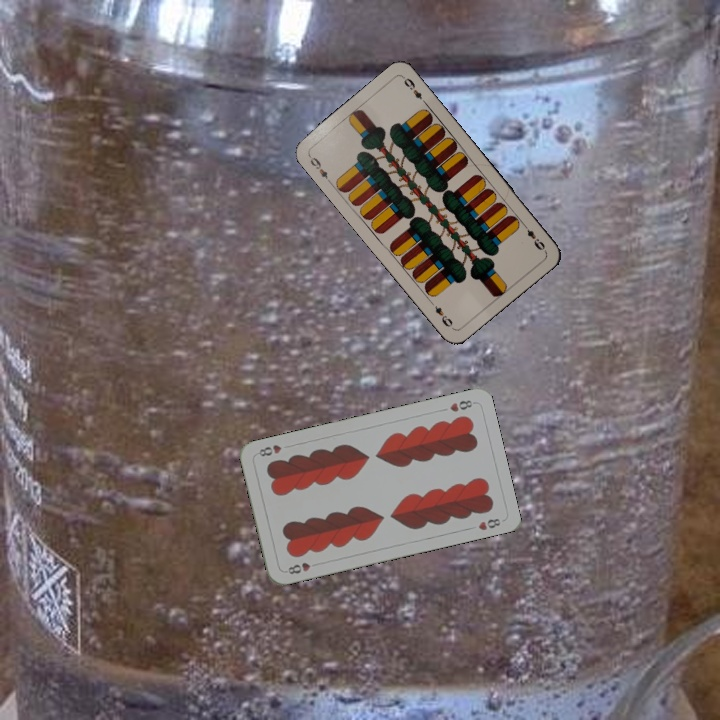E9: (518, 219, 548, 253), (305, 151, 334, 186)
H8: (281, 558, 321, 577), (446, 396, 477, 414)
